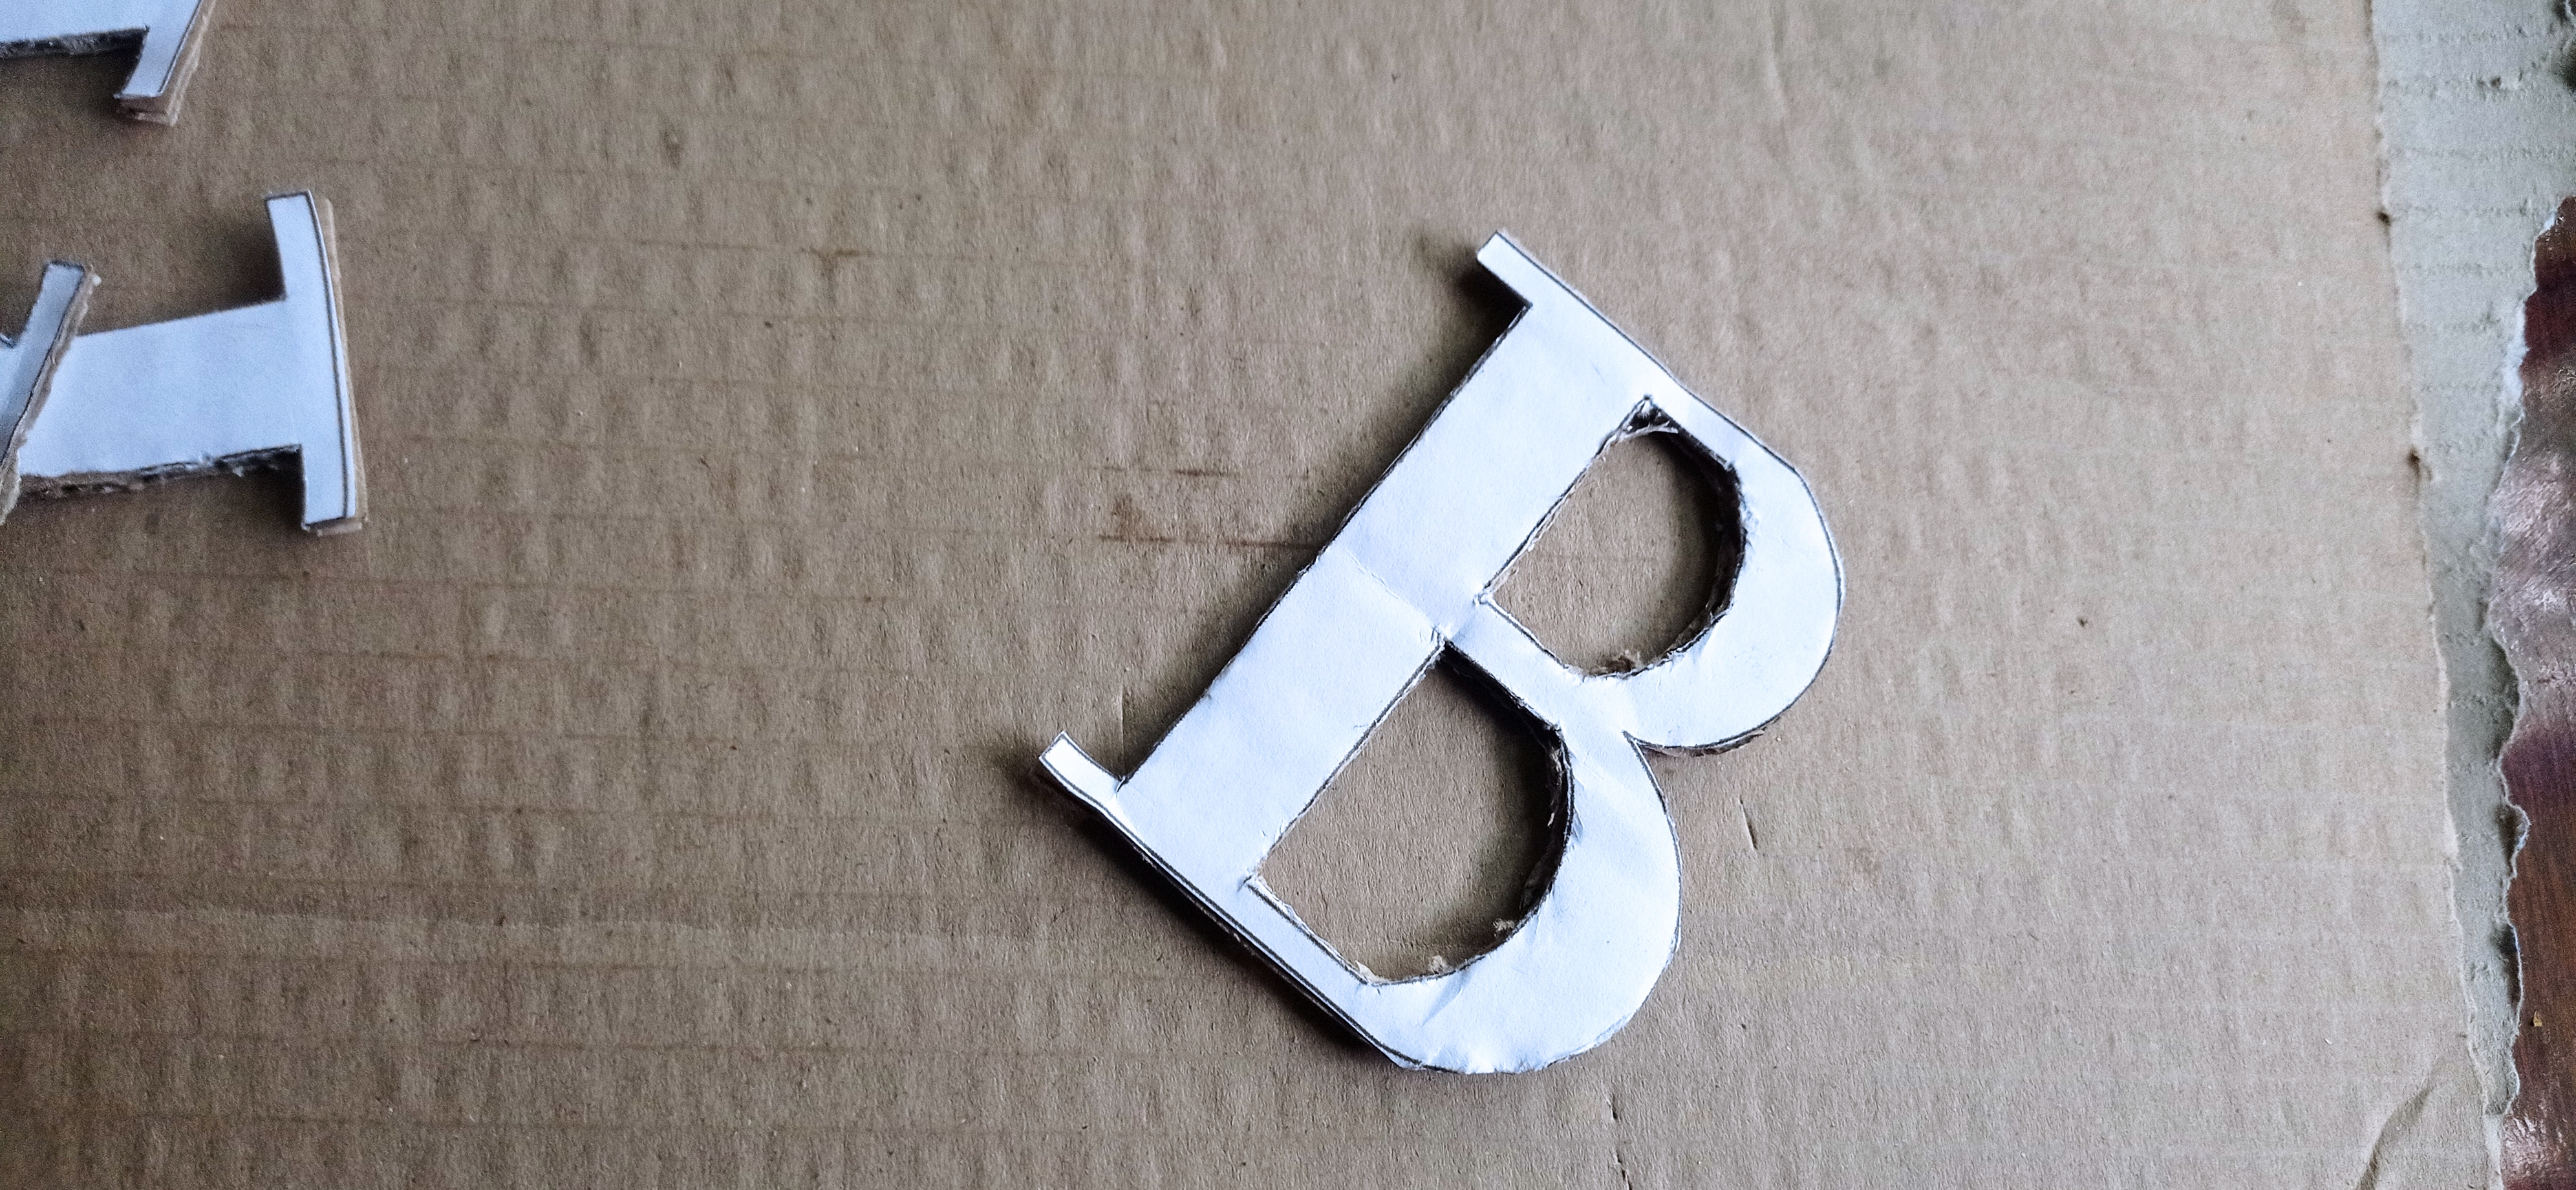v: (1032, 222, 1847, 1078)
